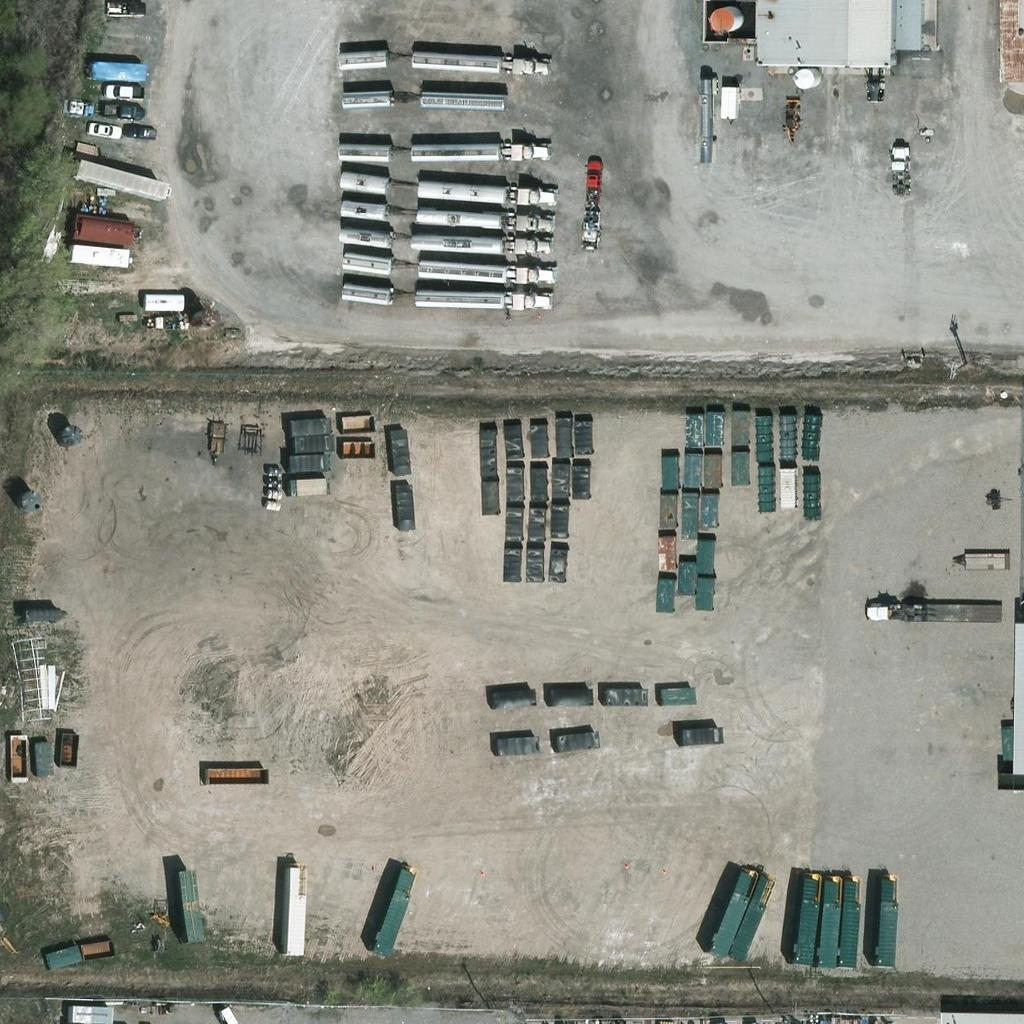car: (105, 75, 139, 109), (108, 94, 142, 128), (88, 111, 122, 145), (122, 114, 156, 148), (574, 161, 608, 195)
